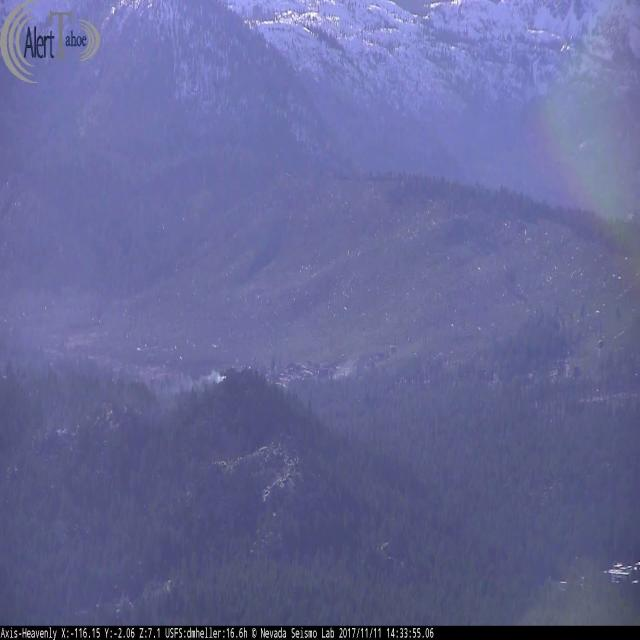smoke: (1, 284, 228, 419), (325, 353, 361, 381)
